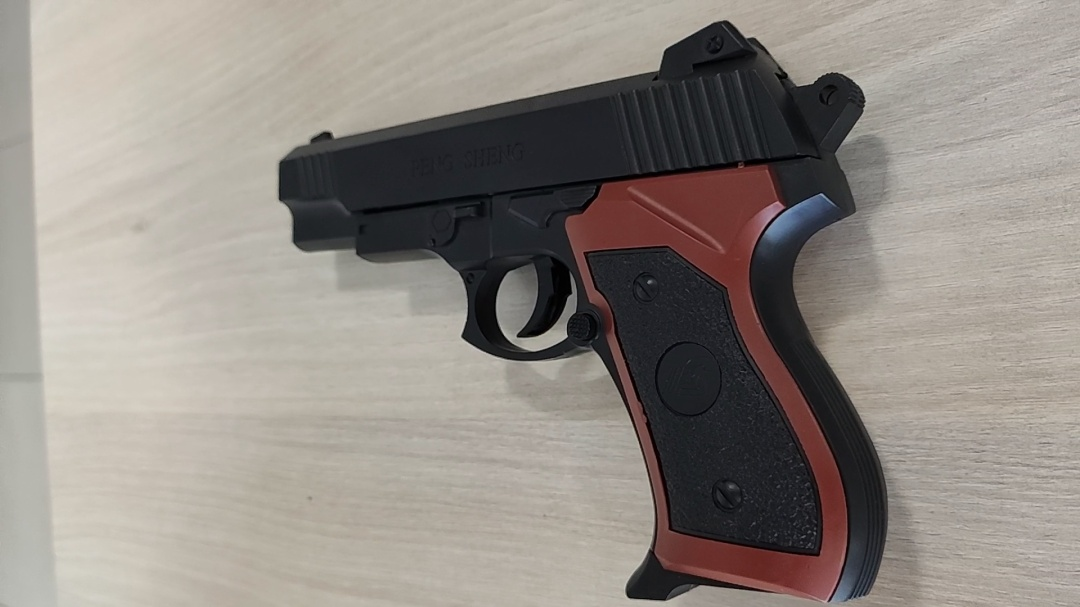gun: (522, 187, 610, 269)
